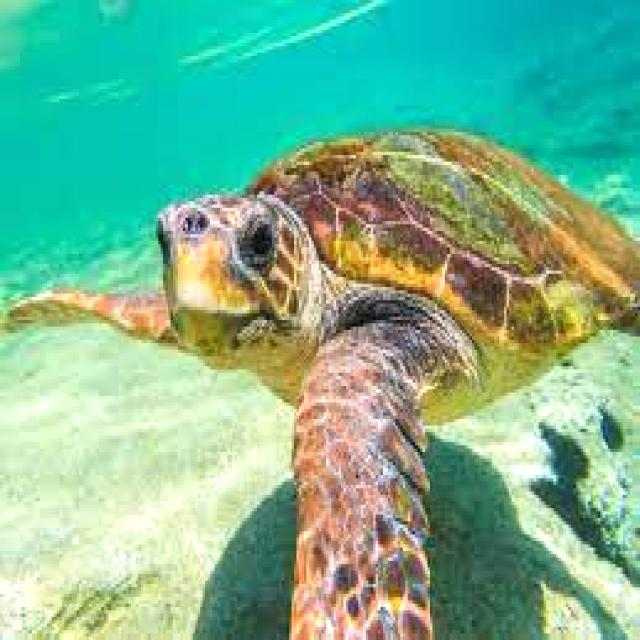Sea turtle: (0, 109, 640, 640)
